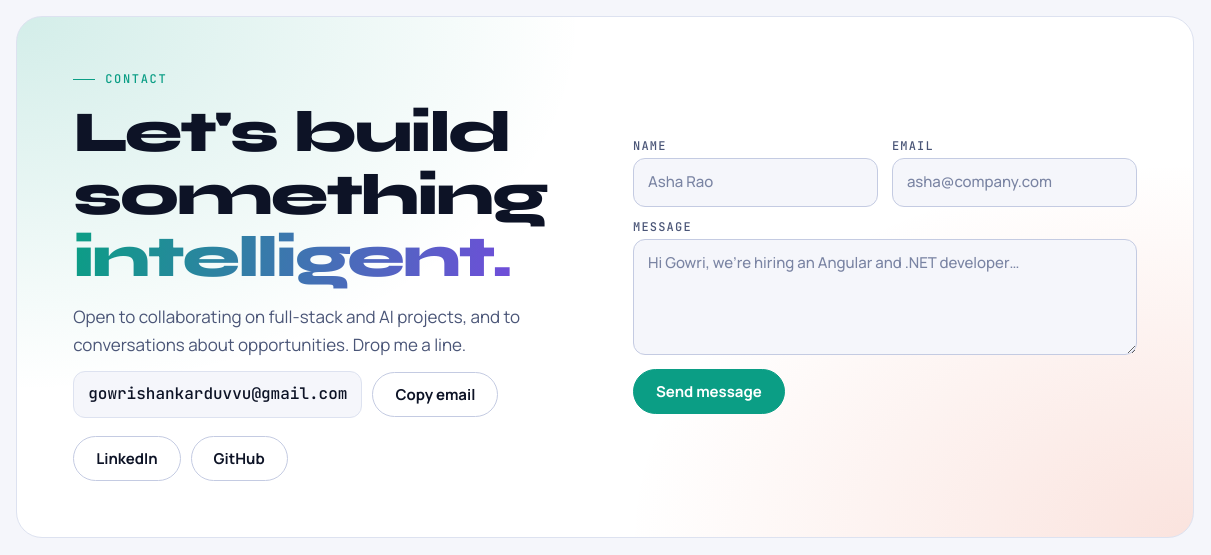
Test case: ContactComponent › does not send an incomplete message and says what is missing
Click the submit button at (709, 391), box [633,369,785,414]
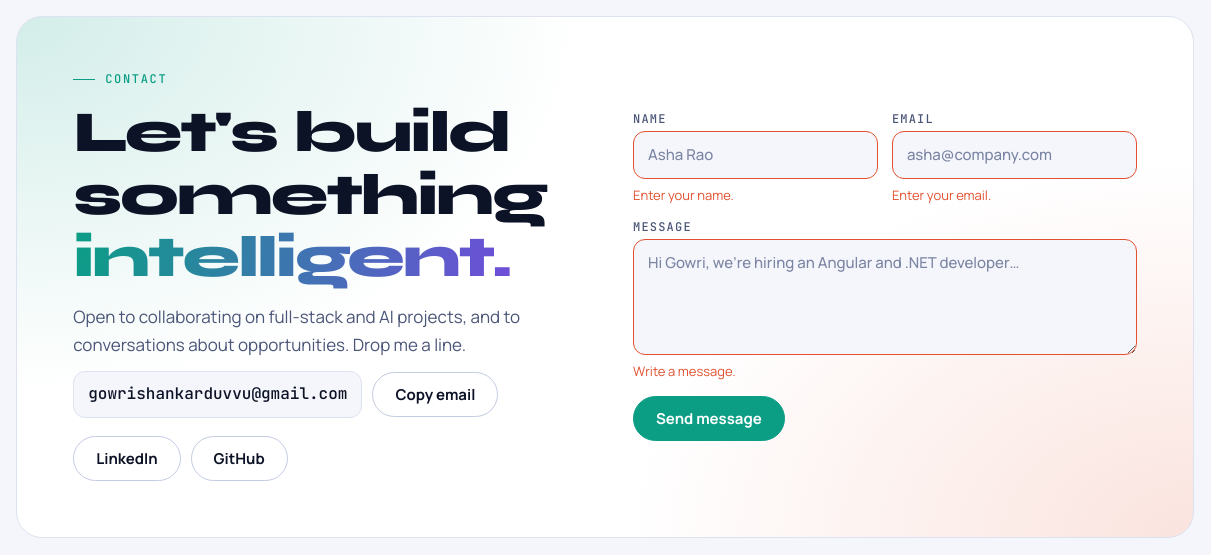
Result: the text "Enter your name." is shown at [633,186,734,204]
Result: the text "Enter your email." is shown at [892,186,991,204]
